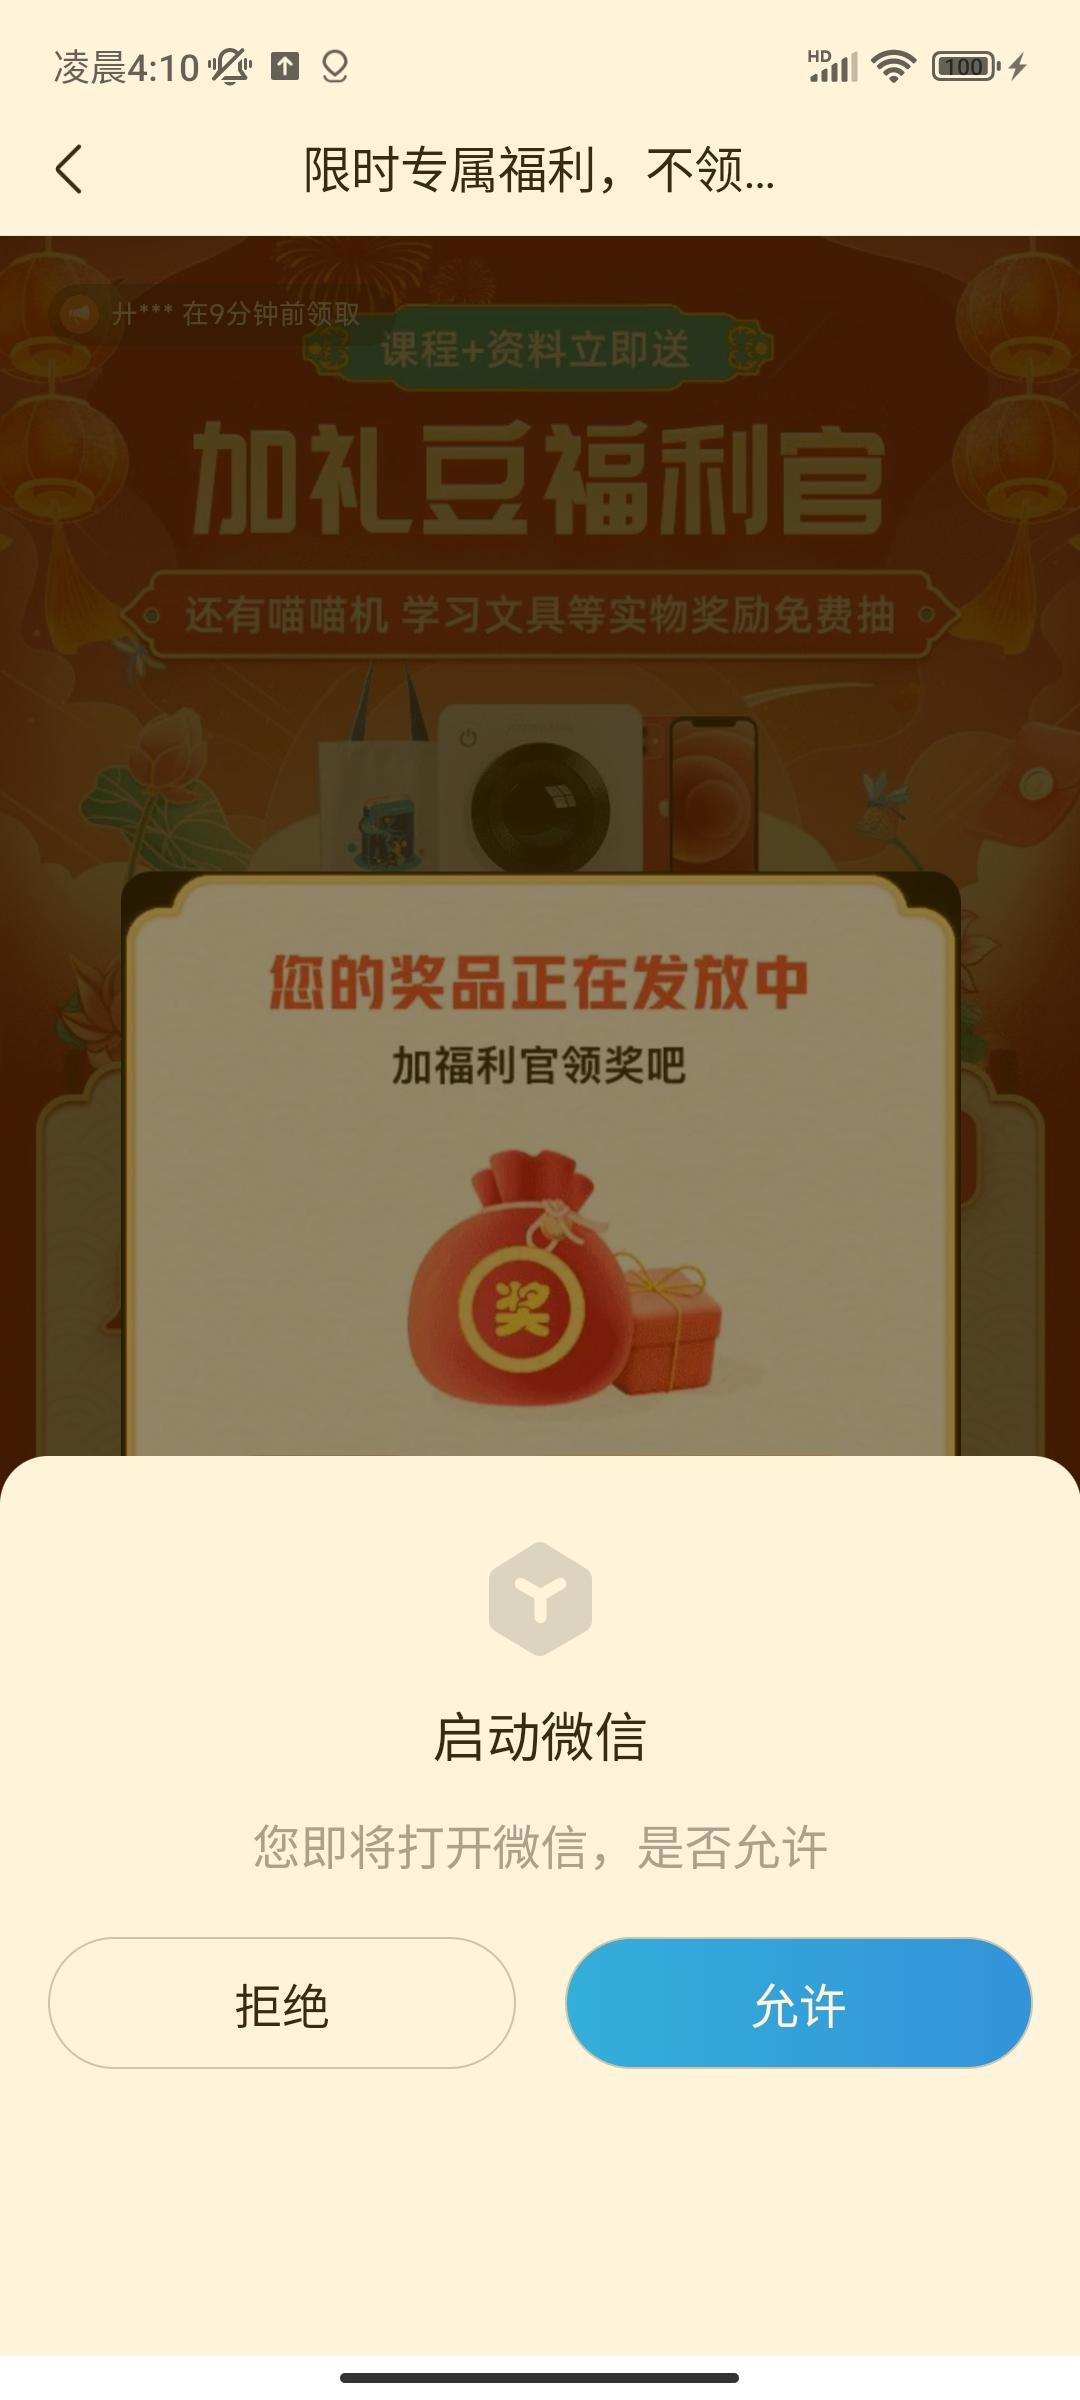ui_group: (2, 1453, 1080, 2349)
